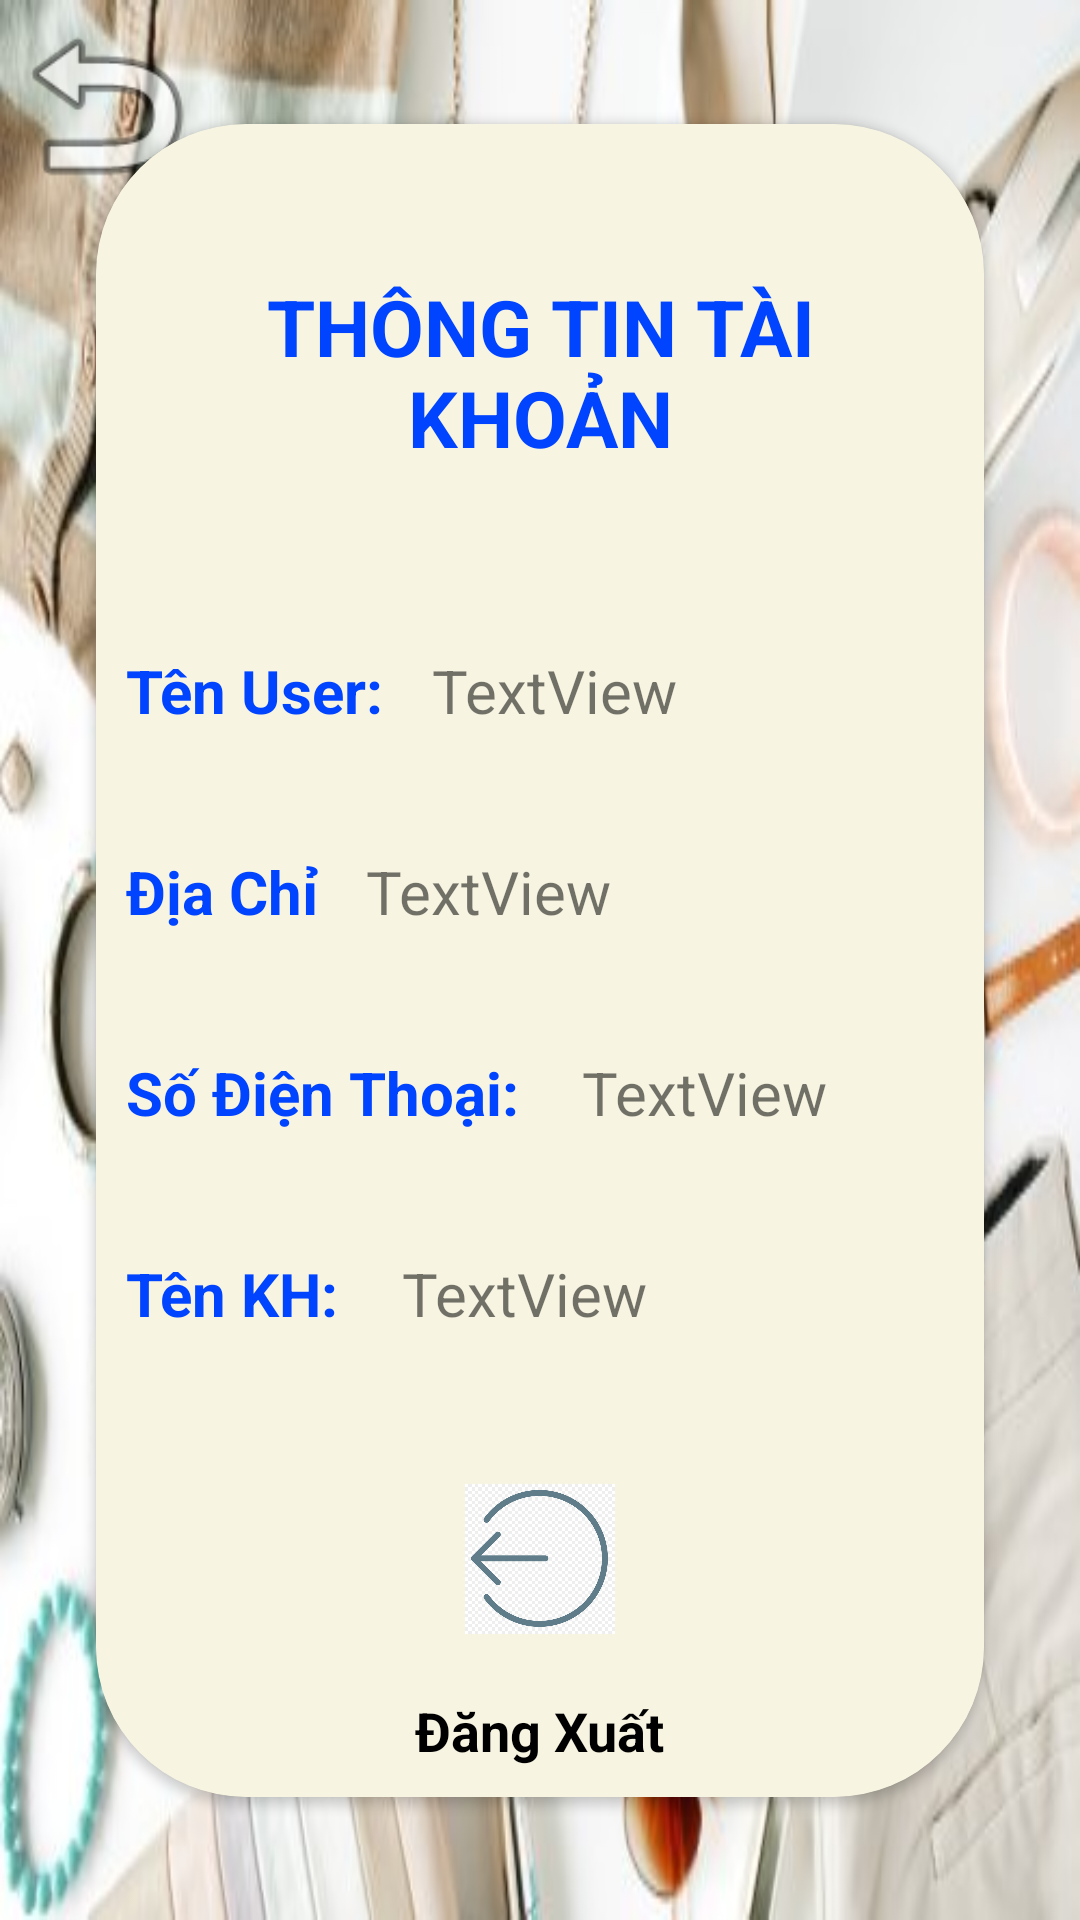

Screen size 1080px×1920px. Icon name, then its center in pixels as [x,y]:
dangxuat: [540,1559]
revert: [105,105]
